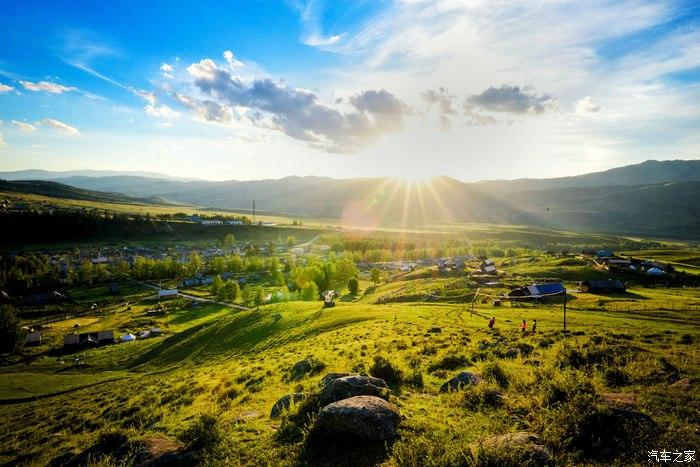mountain: (447, 152, 692, 243)
sky_cloud: (0, 18, 549, 163)
